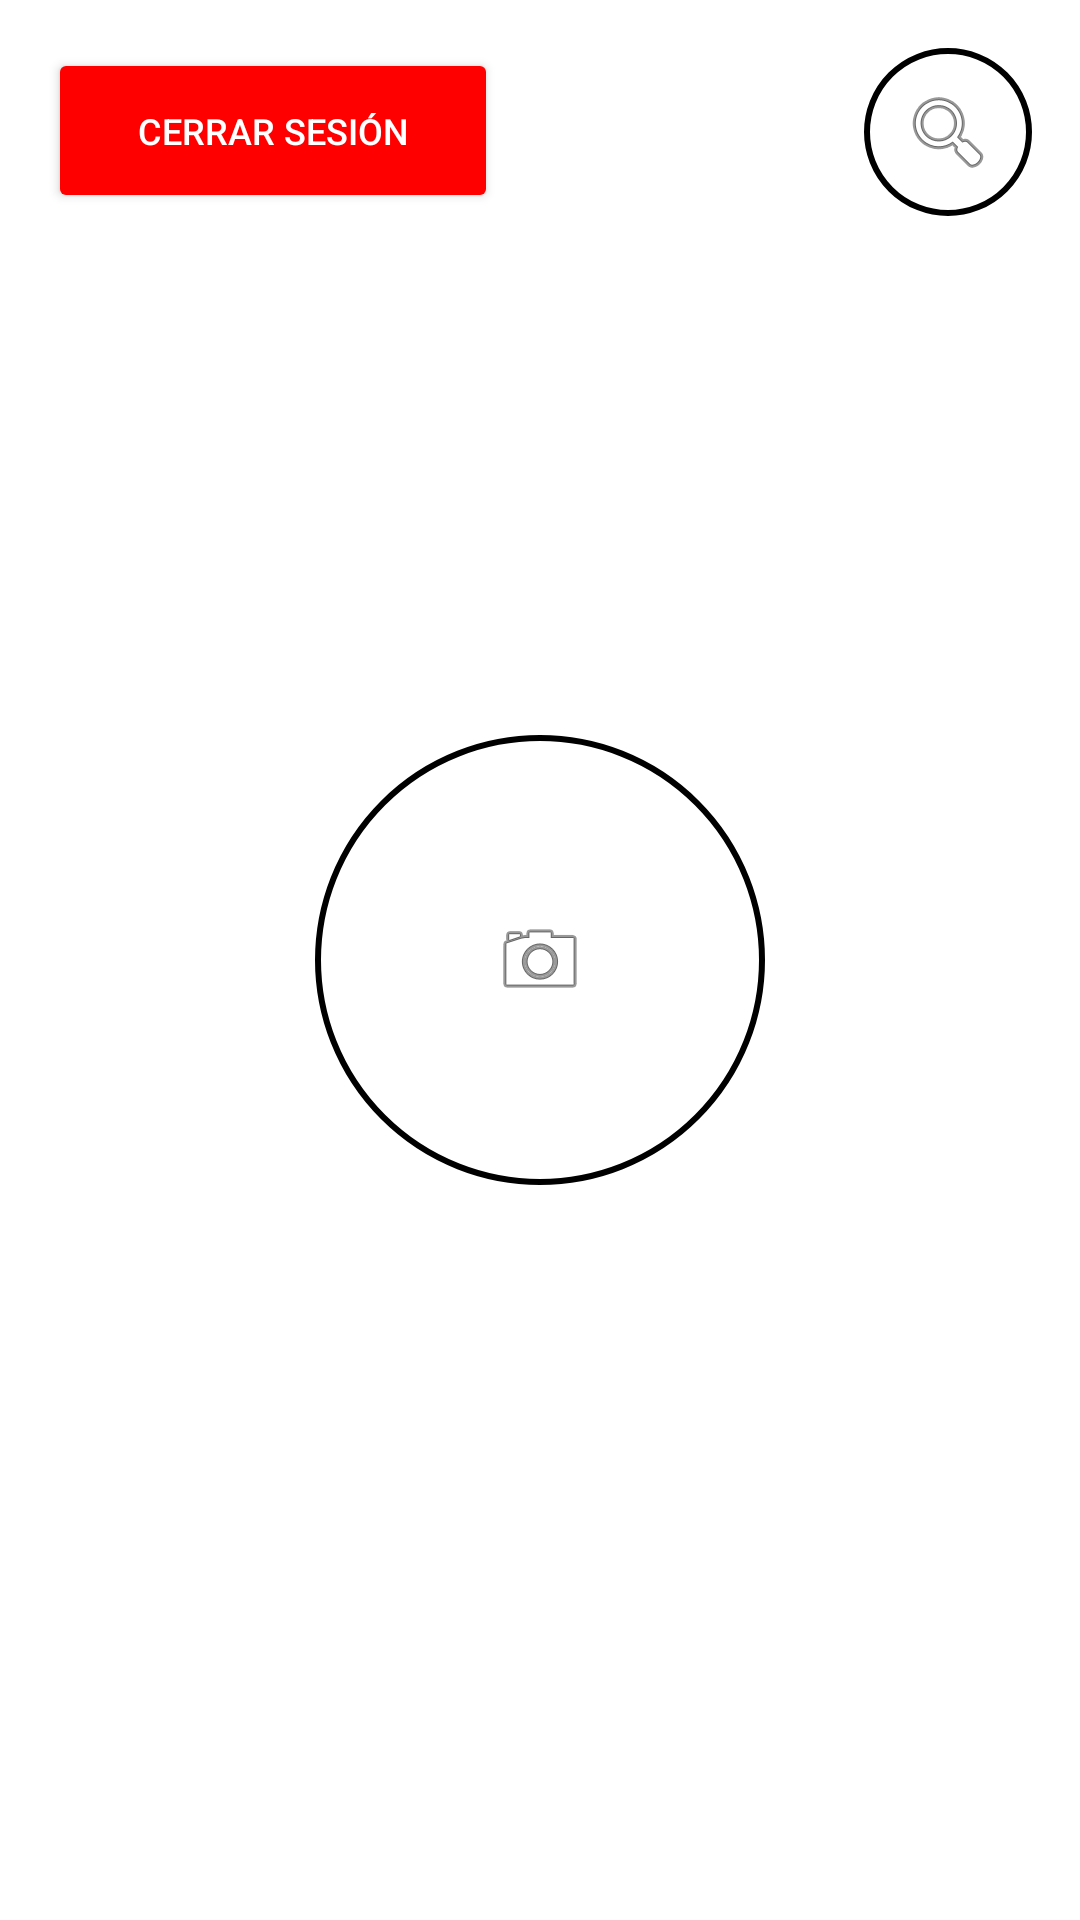

Locate icon controls on the screen. Image size 1080*1920, boxes as (x1, y1, x2, y2).
search: (864, 48, 1032, 216)
